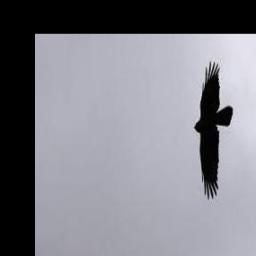Crow: (195, 61, 234, 201)
